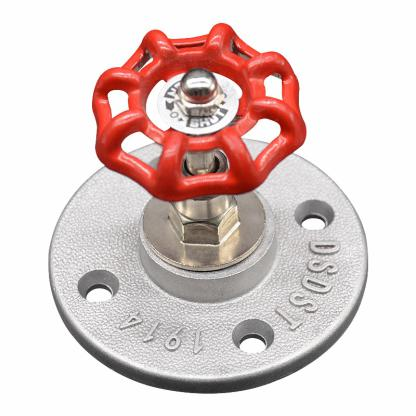FOD: (51, 131, 368, 398)
